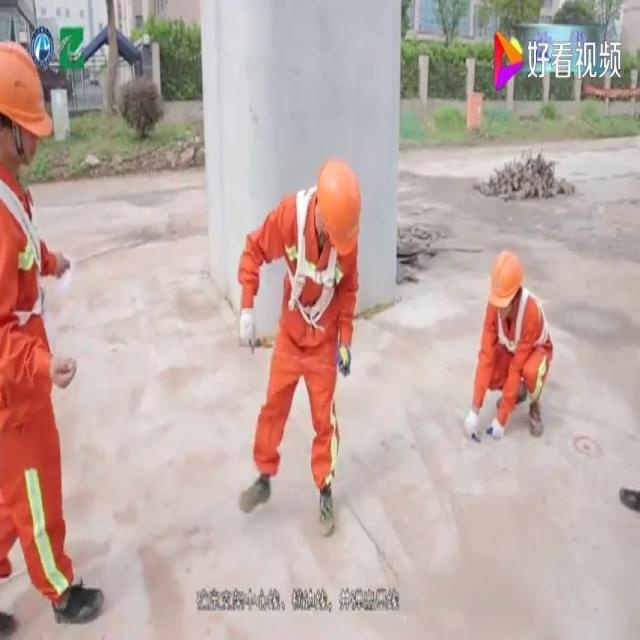Arnes_seguridad: (284, 174, 343, 336), (0, 157, 50, 337), (494, 281, 554, 360)
